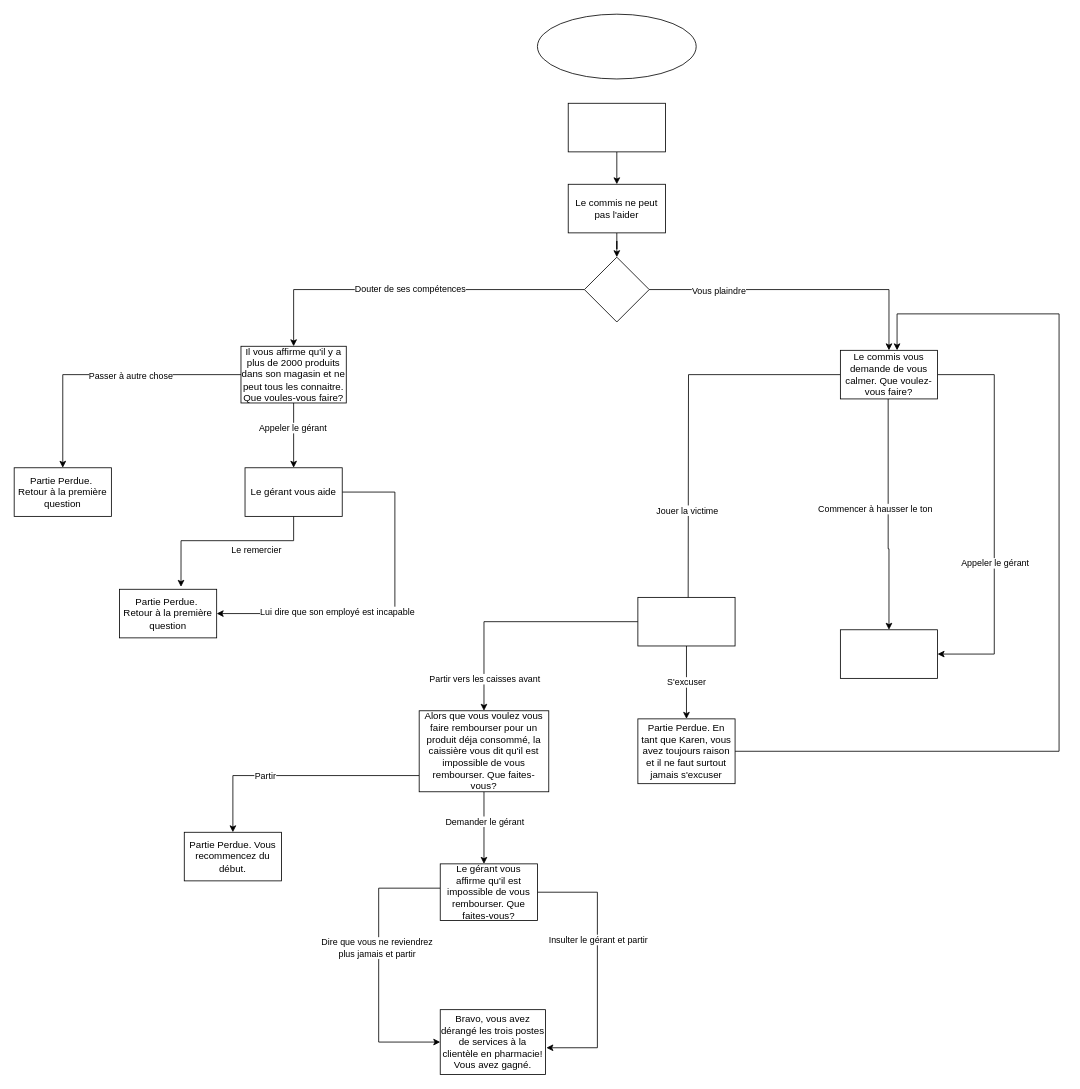
Some shapes in this 1080 by 1089 pixel diagram are drawn without their labels. Here are the shapes that lost their labels. From the top down, the centre of each, then its label:
the point at 616,46: Libère ton stress
the point at 616,127: Karen est au Jean coutu et demande de l'aide pour trouver un produit.
the point at 616,289: Comment voulez-vous réagir
the point at 686,621: Le commis vous propose d'appeler son gérant
the point at 889,653: Le gérant vous demande de quitter
